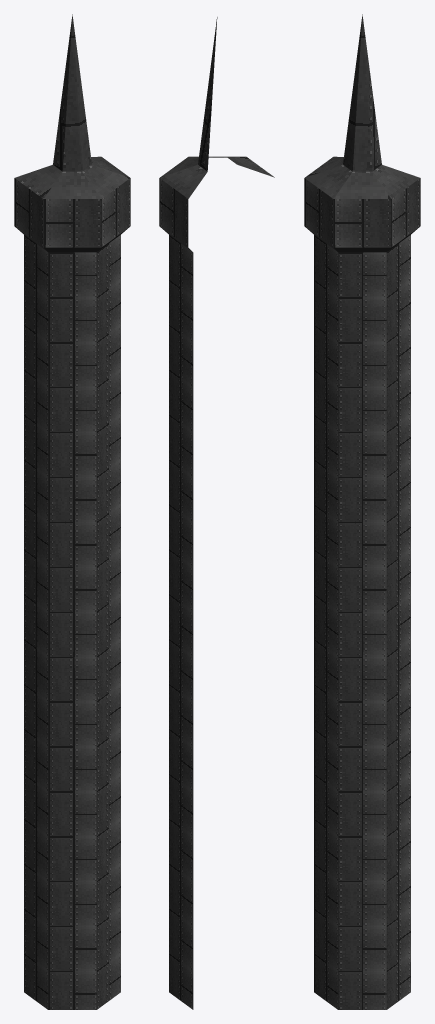
The model's file is spire.glb.
3 renders of one model, left to right at view 1: azimuth 30°, elevation 25°; view 2: azimuth 210°, elevation 25°; view 3: azimuth 330°, elevation 25°, orthographic.
Parts seen in each view (by area): view 1: Cylinder; view 2: Cylinder; view 3: Cylinder.
Part boxes in pixels (x1,y1,x2,y2): Cylinder: [14, 14, 130, 1009]; Cylinder: [159, 17, 274, 1009]; Cylinder: [304, 14, 420, 1009].
Bounding box in the file's own units: 5.52 × 59.22 × 4.78.
1 material, 1 textured.
